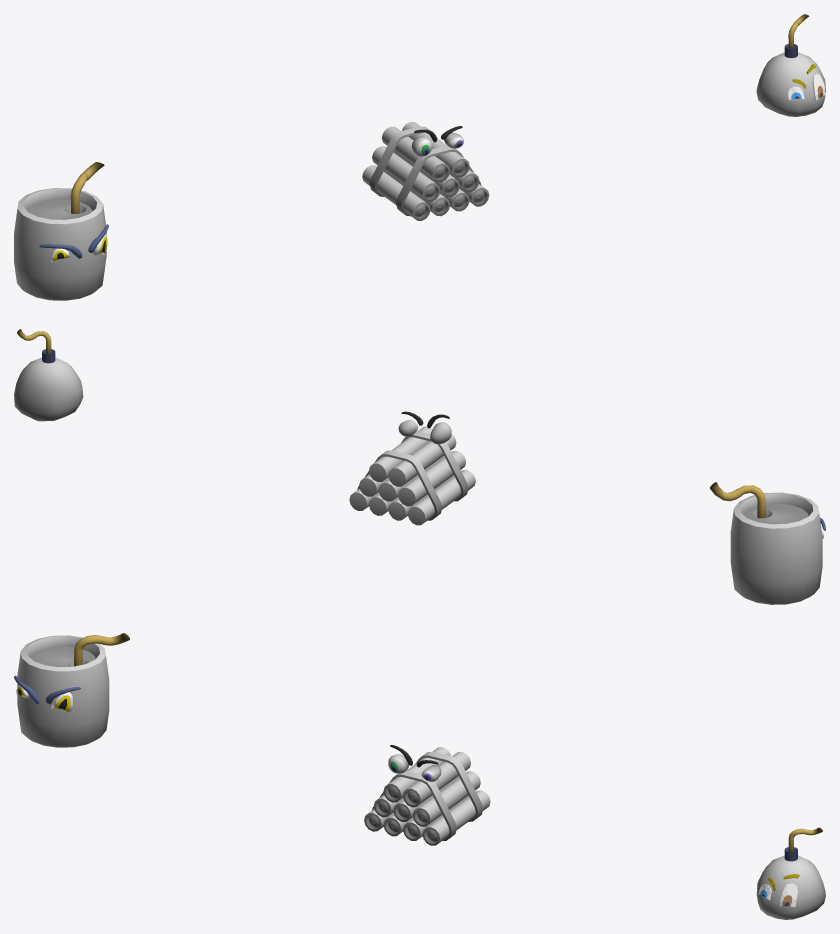
The model's file is bombs.fbx.
3 renders of one model, top to bottom at view 1: azimuth 30°, elevation 25°; view 2: azimuth 150°, elevation 25°; view 3: azimuth 330°, elevation 25°, orthographic.
Visible parts, largest first — view 1: bomb_level3, bomb_level2, bomb_level1; view 2: bomb_level3, bomb_level2, bomb_level1; view 3: bomb_level3, bomb_level2, bomb_level1.
Boxes of the visible parts, bbox=[...] form: bomb_level3: bbox=[14, 162, 108, 300]; bomb_level2: bbox=[362, 121, 489, 220]; bomb_level1: bbox=[756, 14, 825, 116]; bomb_level3: bbox=[710, 482, 825, 604]; bomb_level2: bbox=[349, 411, 475, 525]; bomb_level1: bbox=[14, 329, 83, 421]; bomb_level3: bbox=[14, 633, 129, 747]; bomb_level2: bbox=[364, 745, 490, 845]; bomb_level1: bbox=[756, 827, 825, 919].
Bounding box in the file's own units: 219 × 28.06 × 24.
